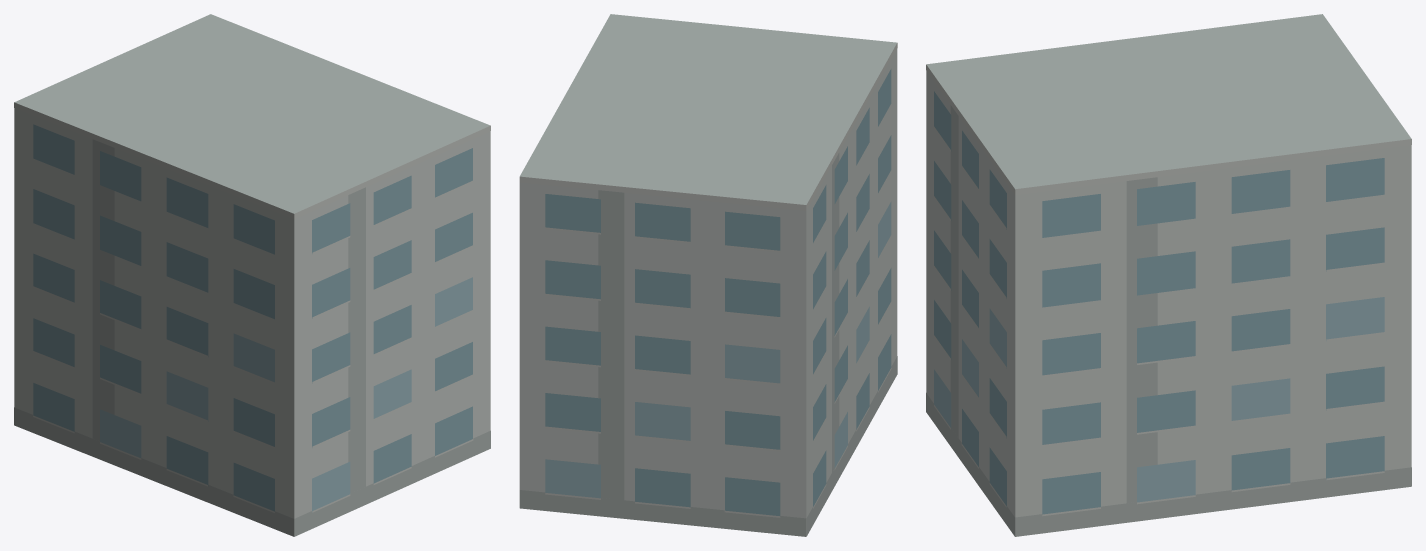
Rendered from survey-upis-32845812.glb.
3 views of the same model, side by side, from view 1: azimuth 30°, elevation 25°; view 2: azimuth 150°, elevation 25°; view 3: azimuth 270°, elevation 25° (orthographic). The views are drawn at different scales.
Visible parts, largest first — view 1: survey-upis-32845812.tmp; view 2: survey-upis-32845812.tmp; view 3: survey-upis-32845812.tmp.
Part boxes in pixels (x1,y1,x2,y2): survey-upis-32845812.tmp: (14, 14, 490, 536); survey-upis-32845812.tmp: (519, 14, 897, 536); survey-upis-32845812.tmp: (926, 14, 1411, 536).
Bounding box in the file's own units: 15.25 × 14.1 × 17.86.
